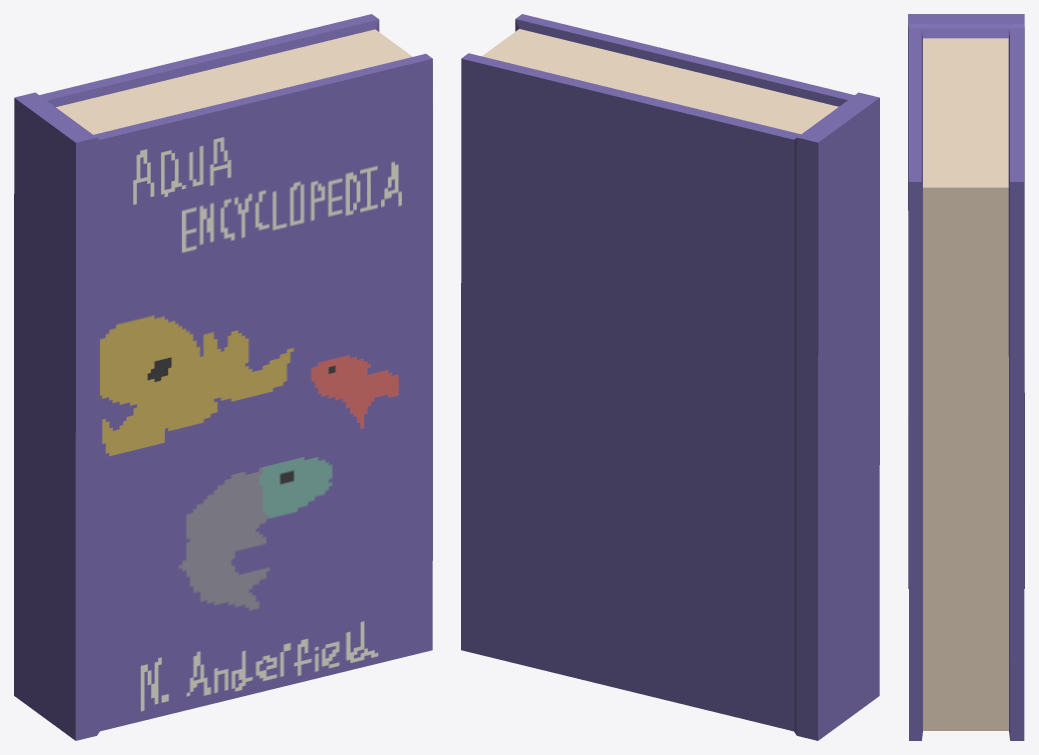
The model's file is aquapedia.fbx.
3 renders of one model, left to right at view 1: azimuth 30°, elevation 25°; view 2: azimuth 150°, elevation 25°; view 3: azimuth 270°, elevation 25°, orthographic. The views are drawn at different scales.
Parts seen in each view (by area): view 1: Cube.113; view 2: Cube.113; view 3: Cube.113.
Boxes of the visible parts, x1,y1,x2,y2 form: Cube.113: [14, 14, 432, 740]; Cube.113: [461, 14, 879, 740]; Cube.113: [908, 14, 1024, 740].
Size of the model in its own units: 22.87 by 36.59 by 6.85.
